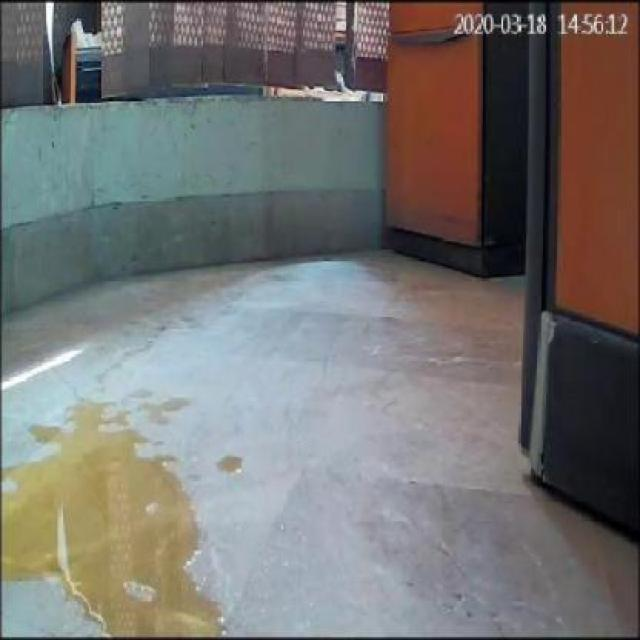spillage: (3, 399, 223, 637)
